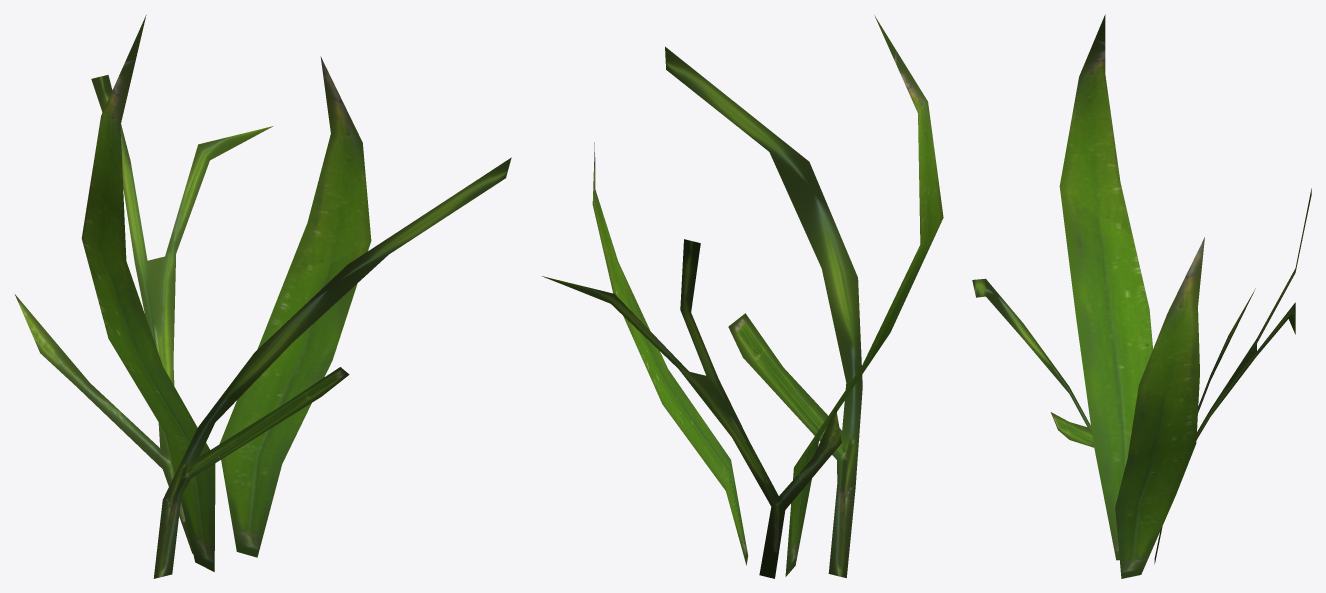
File: grass0.glb
The picture shows the model from 3 angles, left to right: view 1: azimuth 30°, elevation 25°; view 2: azimuth 150°, elevation 25°; view 3: azimuth 270°, elevation 25°; orthographic projection. The views are drawn at different scales.
Visible parts, largest first — view 1: Grass0; view 2: Grass0; view 3: Grass0.
Part boxes in pixels (left/top/right/bottom): Grass0: left=15, top=15, right=511, bottom=578; Grass0: left=541, top=15, right=943, bottom=578; Grass0: left=972, top=14, right=1311, bottom=578.
Bounding box in the file's own units: 0.5757 × 0.9229 × 0.5523.
1 material, 1 textured.
